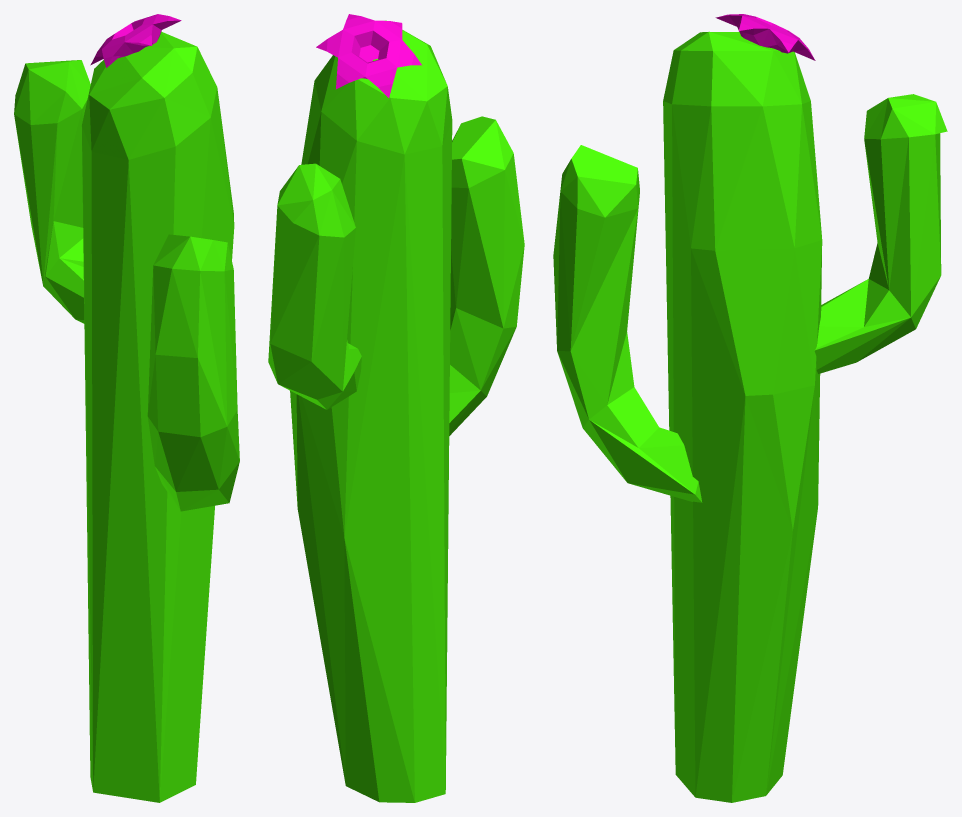
Rendered from M_CactusFleur.FBX.
The picture shows the model from 3 angles, left to right: view 1: azimuth 30°, elevation 25°; view 2: azimuth 150°, elevation 25°; view 3: azimuth 270°, elevation 25°; orthographic projection. The views are drawn at different scales.
Parts seen in each view (by area): view 1: CactusFleur; view 2: CactusFleur; view 3: CactusFleur.
Boxes of the visible parts, bbox=[...] form: CactusFleur: bbox=[14, 14, 239, 802]; CactusFleur: bbox=[268, 14, 524, 802]; CactusFleur: bbox=[553, 14, 947, 802].
Size of the model in its own units: 13.78 by 66.92 by 30.97.
